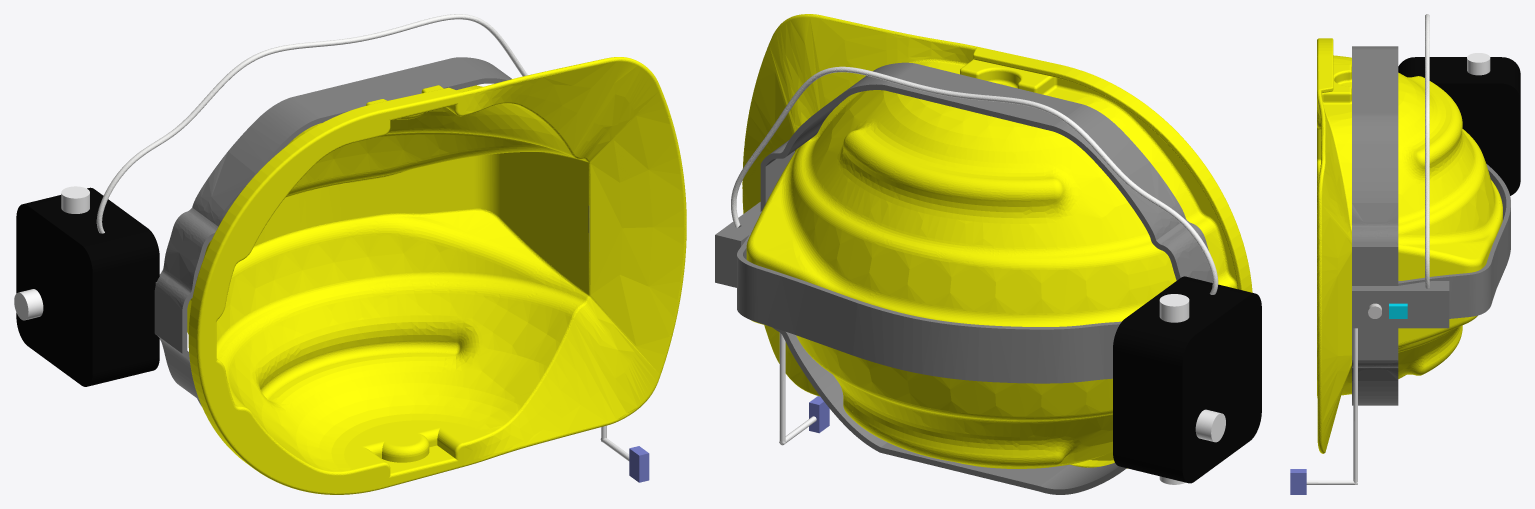
File: hardhatv7.glb
The picture shows the model from 3 angles, left to right: view 1: azimuth 30°, elevation 25°; view 2: azimuth 150°, elevation 25°; view 3: azimuth 270°, elevation 25°; orthographic projection. The views are drawn at different scales.
Parts seen in each view (by area): view 1: Node2, Node1, Node5, Node10, Node8, Node3, Node7, Node6, Node9, Node4; view 2: Node4, Node8, Node10, Node5, Node2, Node1, Node3, Node7, Node9, Node6, Node11; view 3: Node8, Node4, Node5, Node10, Node2, Node3, Node9, Node7, Node6, Node1, Node11, Node13.
Part boxes in pixels (left/top/right/bottom): Node2: left=188, top=96, right=588, bottom=494; Node1: left=216, top=105, right=588, bottom=473; Node5: left=421, top=61, right=683, bottom=464; Node10: left=16, top=187, right=159, bottom=386; Node8: left=154, top=57, right=589, bottom=406; Node3: left=224, top=57, right=684, bottom=477; Node7: left=96, top=14, right=527, bottom=233; Node6: left=374, top=57, right=686, bottom=488; Node9: left=14, top=186, right=629, bottom=461; Node4: left=187, top=85, right=551, bottom=405; Node4: left=746, top=47, right=1234, bottom=468; Node8: left=715, top=62, right=1212, bottom=494; Node10: left=1113, top=276, right=1261, bottom=483; Node5: left=743, top=20, right=1081, bottom=466; Node2: left=813, top=66, right=1252, bottom=468; Node1: left=810, top=17, right=1026, bottom=325; Node3: left=742, top=14, right=1240, bottom=467; Node7: left=731, top=66, right=1218, bottom=294; Node9: left=779, top=294, right=1225, bottom=484; Node6: left=769, top=14, right=1064, bottom=378; Node11: left=809, top=396, right=829, bottom=433; Node8: left=1352, top=46, right=1510, bottom=405; Node4: left=1317, top=54, right=1502, bottom=395; Node5: left=1317, top=70, right=1500, bottom=451; Node10: left=1398, top=57, right=1520, bottom=195; Node2: left=1317, top=38, right=1473, bottom=256; Node3: left=1317, top=88, right=1351, bottom=453; Node9: left=1306, top=53, right=1490, bottom=484; Node7: left=1425, top=14, right=1429, bottom=288; Node6: left=1317, top=54, right=1333, bottom=453; Node1: left=1319, top=109, right=1349, bottom=219; Node11: left=1290, top=469, right=1306, bottom=494; Node13: left=1389, top=303, right=1407, bottom=318.
Size of the model in its own units: 226 by 170 by 98.89.
